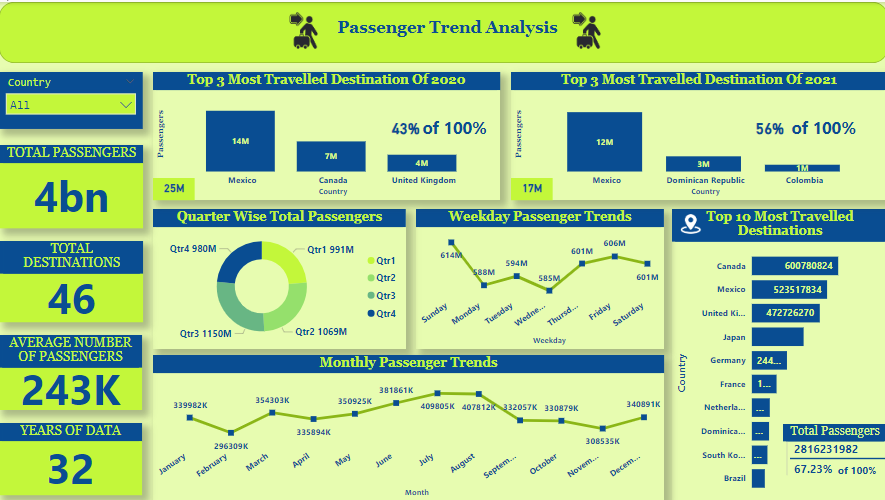

This screenshot's page, from the dashboard's own definition file:
{"tool":"powerbi","page":{"name":"Page 1","canvas":[1280,720],"ordinal":0},"visuals":[{"type":"card","title":"TOTAL PASSENGERS","fields":{"Values":["Measures_Table.Total Passengers"]},"box":[1.4,205.9,205.9,119.5],"z":0},{"type":"shape","box":[0,0,1280.2,87.8],"z":1000},{"type":"card","title":"TOTAL DESTINATIONS","fields":{"Values":["Measures_Table.# Countries"]},"box":[1.4,344.2,205.9,116.6],"z":2000},{"type":"card","title":"YEARS OF DATA","fields":{"Values":["Measures_Table.# Years"]},"box":[0,606.2,205.9,103.7],"z":3000},{"type":"donutChart","title":"Quarter Wise Total Passengers","fields":{"Y":["Measures_Table.Qtr1","Measures_Table.Qtr2","Measures_Table.Qtr3","Measures_Table.Qtr4"]},"box":[221.8,298.1,364.3,201.6],"z":4000},{"type":"slicer","fields":{"Values":["Passengers Trend.Country"]},"box":[0,100.8,207.4,82.1],"z":5000},{"type":"lineChart","title":"Weekday Passenger Trends","fields":{"Y":["Measures_Table.Total Passengers"],"Category":["Weekday_sort.Weekday"]},"box":[600.5,298.1,357.1,201.6],"z":6000},{"type":"lineChart","title":"Monthly Passenger Trends","fields":{"Category":["DATE.Date.Variation.Date Hierarchy.Month"],"Y":["Sum(Passengers Trend.Total Passengers)"]},"box":[221.8,508.3,735.8,210.2],"z":7000},{"type":"clusteredBarChart","title":"Top 10 Most Travelled Destinations ","fields":{"Category":["Passengers Trend.Country"],"Y":["Measures_Table.MOST TRAVEL DESTINATION"]},"box":[969.1,298.1,311,420.5],"z":8000},{"type":"card","title":"AVERAGE NUMBER OF PASSENGERS","fields":{"Values":["Measures_Table.AVERAGE PASSENGER"]},"box":[0,479.5,205.9,108],"z":9000},{"type":"multiRowCard","title":"Total Passengers","fields":{"Values":["Measures_Table.MOST TRAVEL DESTINATION","Measures_Table.% MOST TRAVEL"]},"box":[1129,607.7,149.8,112.3],"z":10000},{"type":"shape","box":[1139,630.7,139.7,53.3],"z":11000},{"type":"textbox","box":[1190.9,658.1,89.3,41.8],"z":12000},{"type":"clusteredColumnChart","title":"Top 3 Most Travelled Destination Of 2020","fields":{"Category":["Passengers Trend.Country"],"Y":["Measures_Table.2020 MOST TRAVEL DESTINATION"]},"box":[221.8,100.8,499.7,184.3],"z":13000},{"type":"clusteredColumnChart","title":"Top 3 Most Travelled Destination Of 2021","fields":{"Category":["Passengers Trend.Country"],"Y":["Measures_Table.2021 MOST TRAVEL DESTINATION"]},"box":[737.3,100.8,541.4,184.3],"z":14000},{"type":"card","fields":{"Values":["Measures_Table.%2020 MOST TRAVEL DESTINATION"]},"box":[524.2,133.9,122.4,96.5],"z":15000},{"type":"card","fields":{"Values":["Measures_Table.%2021 MOST TRAVEL DESTINATION"]},"box":[1048.3,133.9,122.4,96.5],"z":16000},{"type":"textbox","box":[573.1,158.4,165.6,56.2],"z":17000},{"type":"textbox","box":[1136.2,158.4,108,72],"z":18000},{"type":"card","fields":{"Values":["Measures_Table.2020 MOST TRAVEL DESTINATION"]},"box":[221.8,253.4,60.5,31.7],"z":19000},{"type":"card","fields":{"Values":["Measures_Table.2021 MOST TRAVEL DESTINATION"]},"box":[737.3,253.4,60.5,31.7],"z":20000},{"type":"textbox","box":[465.1,17.3,361.4,54.7],"z":21000},{"type":"image","box":[221.8,0,434.9,87.8],"z":22000},{"type":"image","box":[629.3,0,434.9,87.8],"z":23000},{"type":"image","box":[957.6,298.1,76.3,43.2],"z":24000}]}

Visuals, with their boxes in screenshot pixels (x1, y1, x2, y2), scaled from the page's 1280x720 canvas onto the 885x500 screenshot:
"TOTAL PASSENGERS" card: {"x1": 1, "y1": 143, "x2": 143, "y2": 226}
shape: {"x1": 0, "y1": 0, "x2": 884, "y2": 61}
"TOTAL DESTINATIONS" card: {"x1": 1, "y1": 239, "x2": 143, "y2": 320}
"YEARS OF DATA" card: {"x1": 0, "y1": 421, "x2": 142, "y2": 493}
"Quarter Wise Total Passengers" donutChart: {"x1": 153, "y1": 207, "x2": 405, "y2": 347}
slicer - Passengers Trend.Country: {"x1": 0, "y1": 70, "x2": 143, "y2": 127}
"Weekday Passenger Trends" lineChart: {"x1": 415, "y1": 207, "x2": 662, "y2": 347}
"Monthly Passenger Trends" lineChart: {"x1": 153, "y1": 353, "x2": 662, "y2": 499}
"Top 10 Most Travelled Destinations " clusteredBarChart: {"x1": 670, "y1": 207, "x2": 884, "y2": 499}
"AVERAGE NUMBER OF PASSENGERS" card: {"x1": 0, "y1": 333, "x2": 142, "y2": 408}
"Total Passengers" multiRowCard: {"x1": 781, "y1": 422, "x2": 884, "y2": 499}
shape: {"x1": 788, "y1": 438, "x2": 884, "y2": 475}
textbox: {"x1": 823, "y1": 457, "x2": 884, "y2": 486}
"Top 3 Most Travelled Destination Of 2020" clusteredColumnChart: {"x1": 153, "y1": 70, "x2": 499, "y2": 198}
"Top 3 Most Travelled Destination Of 2021" clusteredColumnChart: {"x1": 510, "y1": 70, "x2": 884, "y2": 198}
card - Measures_Table.%2020 MOST TRAVEL DESTINATION: {"x1": 362, "y1": 93, "x2": 447, "y2": 160}
card - Measures_Table.%2021 MOST TRAVEL DESTINATION: {"x1": 725, "y1": 93, "x2": 809, "y2": 160}
textbox: {"x1": 396, "y1": 110, "x2": 511, "y2": 149}
textbox: {"x1": 786, "y1": 110, "x2": 860, "y2": 160}
card - Measures_Table.2020 MOST TRAVEL DESTINATION: {"x1": 153, "y1": 176, "x2": 195, "y2": 198}
card - Measures_Table.2021 MOST TRAVEL DESTINATION: {"x1": 510, "y1": 176, "x2": 552, "y2": 198}
textbox: {"x1": 322, "y1": 12, "x2": 571, "y2": 50}
image: {"x1": 153, "y1": 0, "x2": 454, "y2": 61}
image: {"x1": 435, "y1": 0, "x2": 736, "y2": 61}
image: {"x1": 662, "y1": 207, "x2": 715, "y2": 237}
